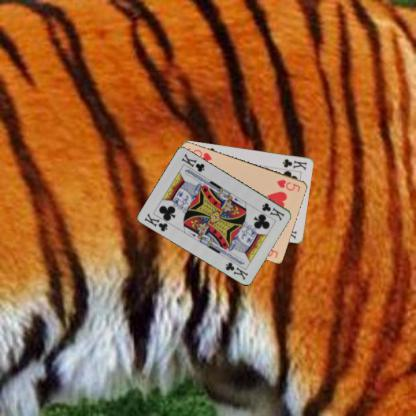5h: (274, 177, 302, 193)
Kc: (142, 210, 169, 233), (259, 200, 286, 222), (280, 156, 308, 171)
